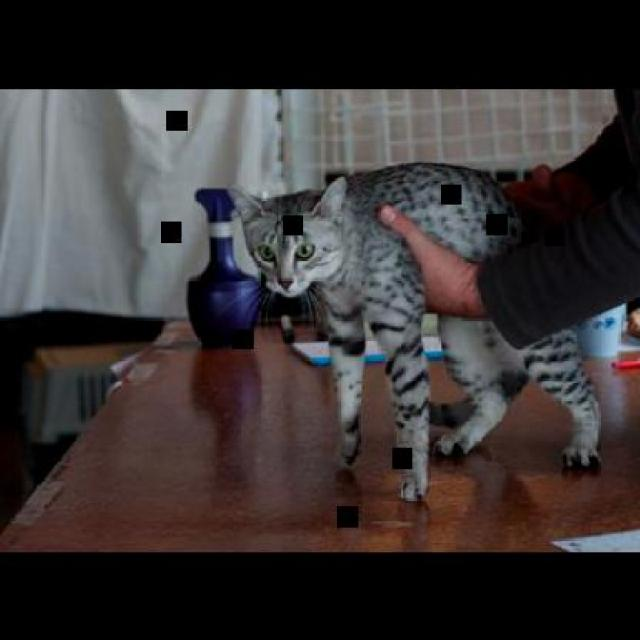unauthorized: (224, 160, 602, 502)
